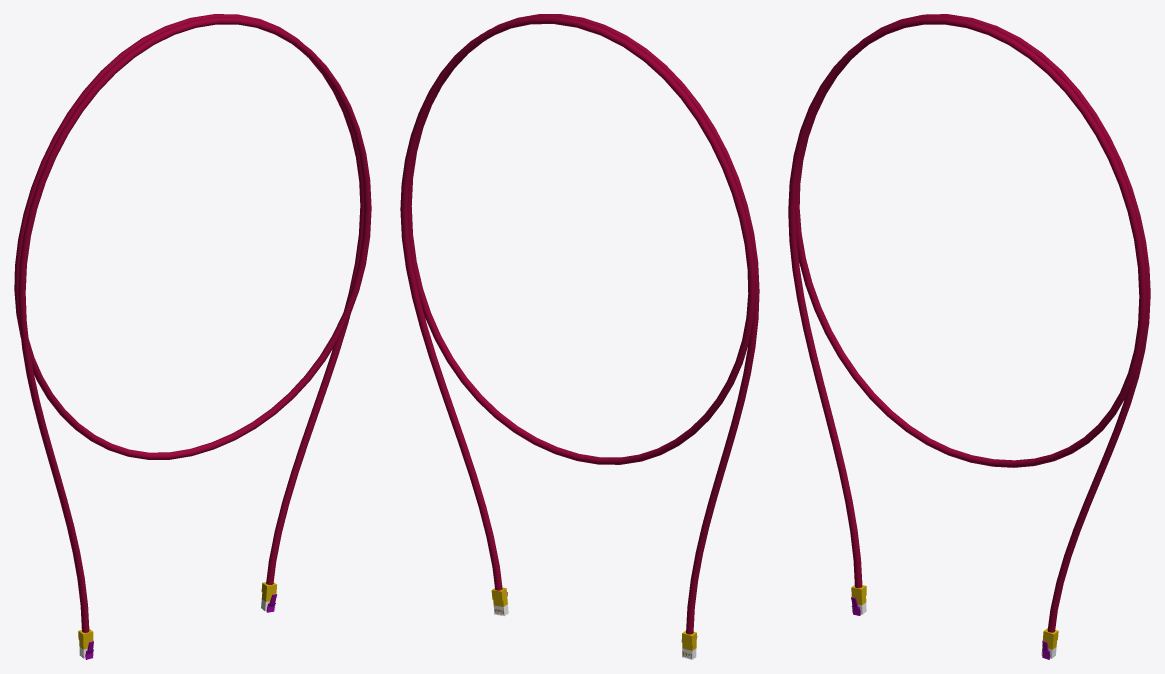
The model's file is sitovyKabel-zluty.fbx.
3 renders of one model, left to right at view 1: azimuth 30°, elevation 25°; view 2: azimuth 150°, elevation 25°; view 3: azimuth 330°, elevation 25°, orthographic.
Visible parts, largest first — view 1: BézierCurve; view 2: BézierCurve; view 3: BézierCurve.
Part boxes in pixels (x1,y1,x2,y2): BézierCurve: (14, 14, 371, 659); BézierCurve: (400, 14, 759, 659); BézierCurve: (788, 14, 1150, 659).
Size of the model in its own units: 32.6 by 53.98 by 1.78.
